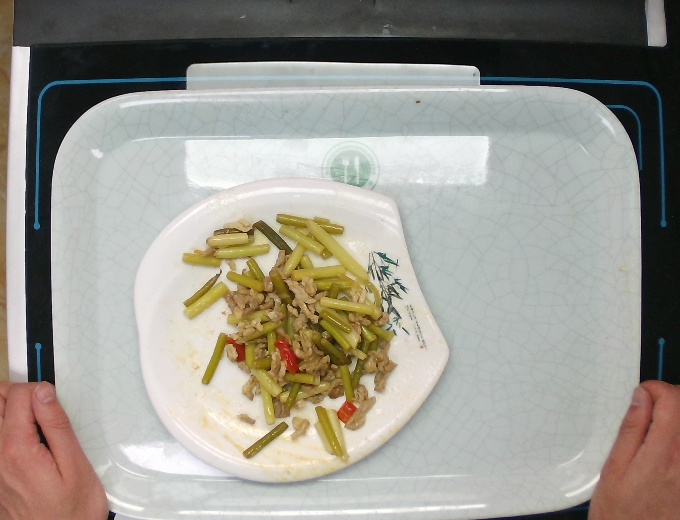JYsf-Mian_Pan: (127, 175, 450, 490)
